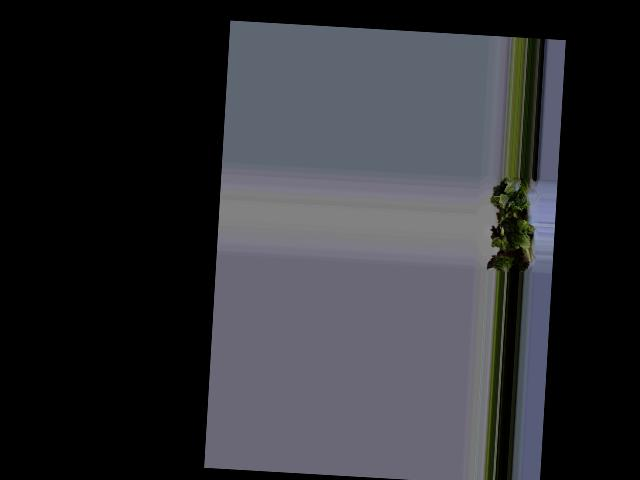lettuce: (490, 181, 530, 269)
